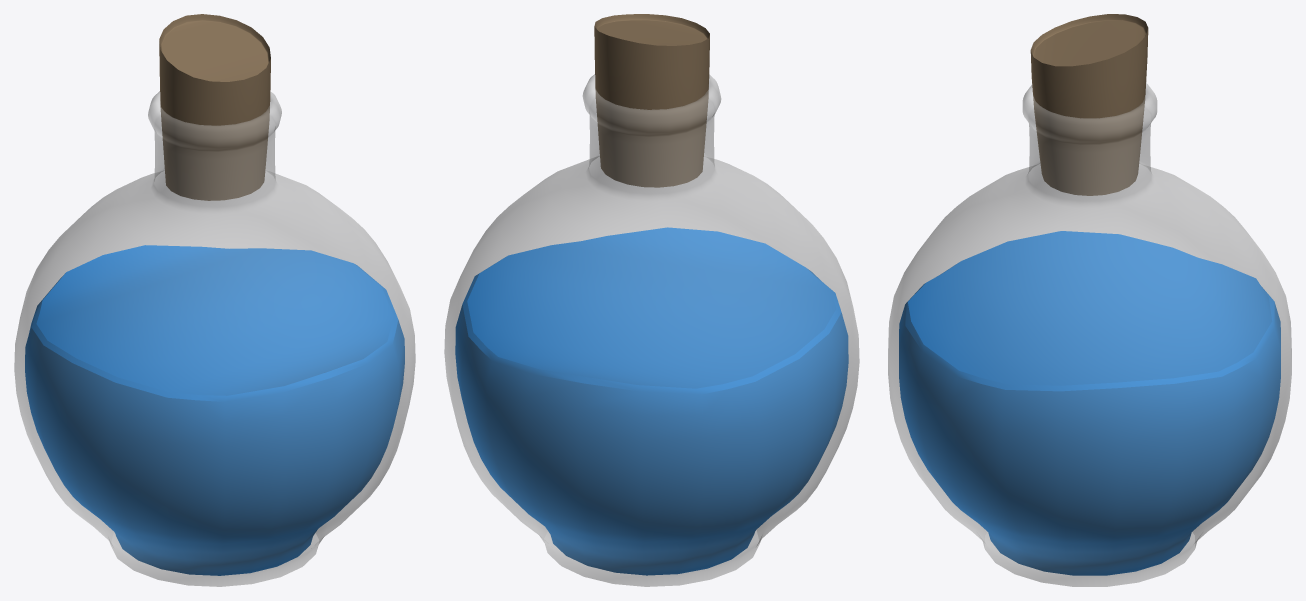
The model's file is Mana_Potion_LP.fbx.
3 renders of one model, left to right at view 1: azimuth 30°, elevation 25°; view 2: azimuth 150°, elevation 25°; view 3: azimuth 270°, elevation 25°, orthographic. The views are drawn at different scales.
Parts seen in each view (by area): view 1: Flask_LP, Mana_Potion_LP, Cork_LP; view 2: Flask_LP, Mana_Potion_LP, Cork_LP; view 3: Flask_LP, Mana_Potion_LP, Cork_LP.
Part boxes in pixels (<box>): Flask_LP: <box>14,91,415,586</box>; Mana_Potion_LP: <box>25,245,404,575</box>; Cork_LP: <box>159,14,270,200</box>; Flask_LP: <box>444,74,859,586</box>; Mana_Potion_LP: <box>455,227,848,575</box>; Cork_LP: <box>594,14,709,187</box>; Flask_LP: <box>888,83,1291,586</box>; Mana_Potion_LP: <box>899,231,1280,575</box>; Cork_LP: <box>1030,14,1148,195</box>.
Bounding box in the file's own units: 54.3 × 76.39 × 54.3.
